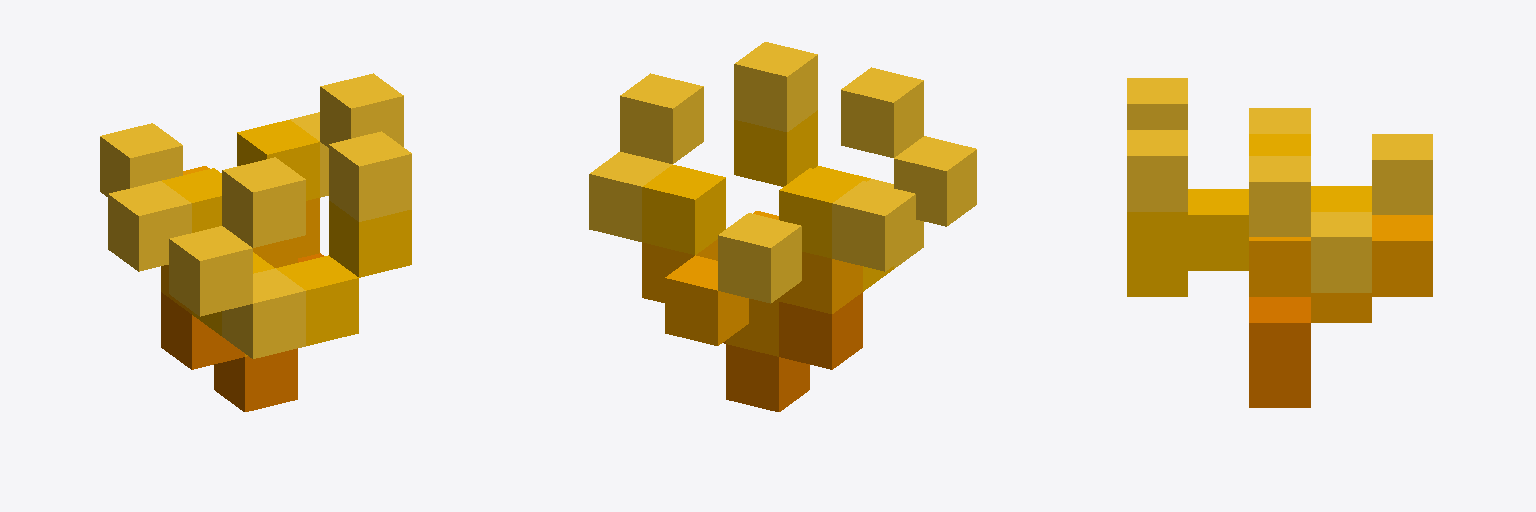
3 views of the same model, side by side, from view 1: azimuth 30°, elevation 25°; view 2: azimuth 150°, elevation 25°; view 3: azimuth 270°, elevation 25° (orthographic).
Parts seen in each view (by area): view 1: object 1; view 2: object 1; view 3: object 1.
Boxes of the visible parts, x1,y1,x2,y2 form: object 1: [100, 73, 411, 411]; object 1: [589, 42, 976, 411]; object 1: [1127, 78, 1432, 407].
Size of the model in its own units: 0.5 by 0.5 by 0.5.
Materials: 1 (1 with a texture image).